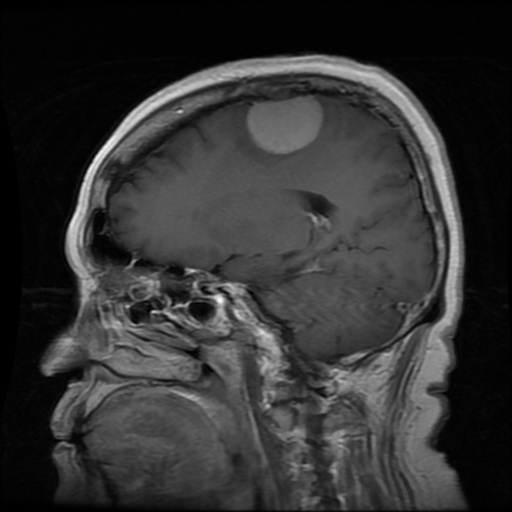meningioma: (248, 95, 322, 154)
